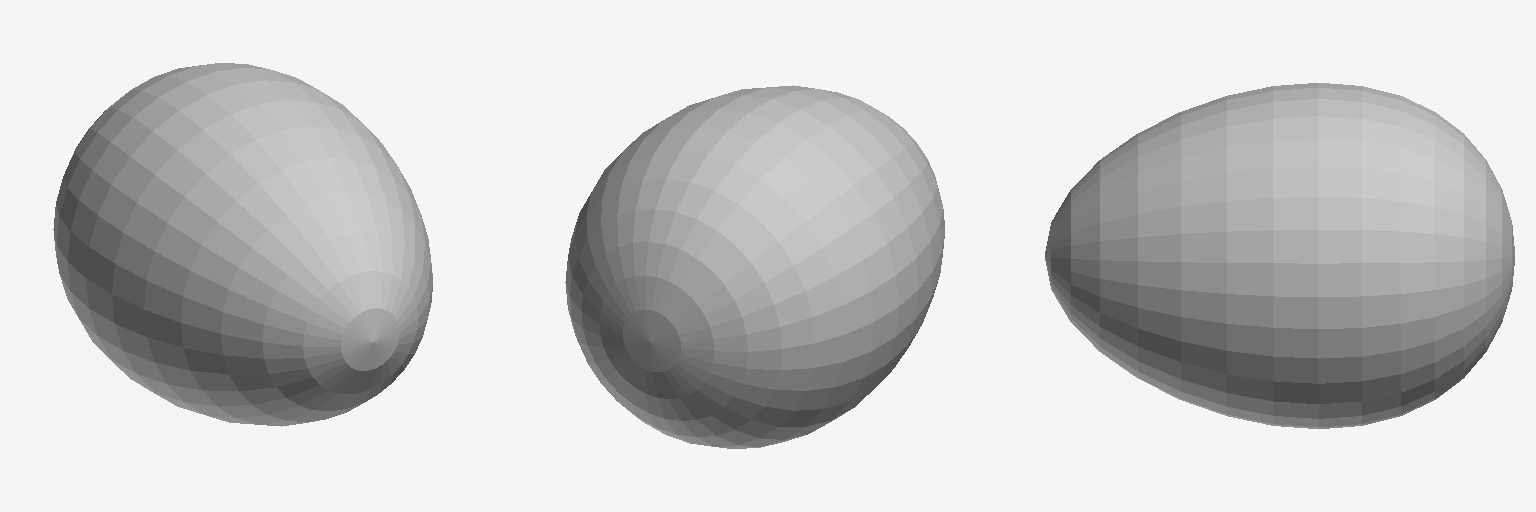
The model's file is huevo6.obj.
3 renders of one model, left to right at view 1: azimuth 30°, elevation 25°; view 2: azimuth 150°, elevation 25°; view 3: azimuth 270°, elevation 25°, orthographic.
Visible parts, largest first — view 1: Egg03_Mat03_0.001; view 2: Egg03_Mat03_0.001; view 3: Egg03_Mat03_0.001.
Part boxes in pixels (x1,y1,x2,y2): Egg03_Mat03_0.001: (53, 63, 432, 426); Egg03_Mat03_0.001: (565, 85, 944, 448); Egg03_Mat03_0.001: (1045, 83, 1514, 428).
Bounding box in the file's own units: 2 × 2 × 2.72.